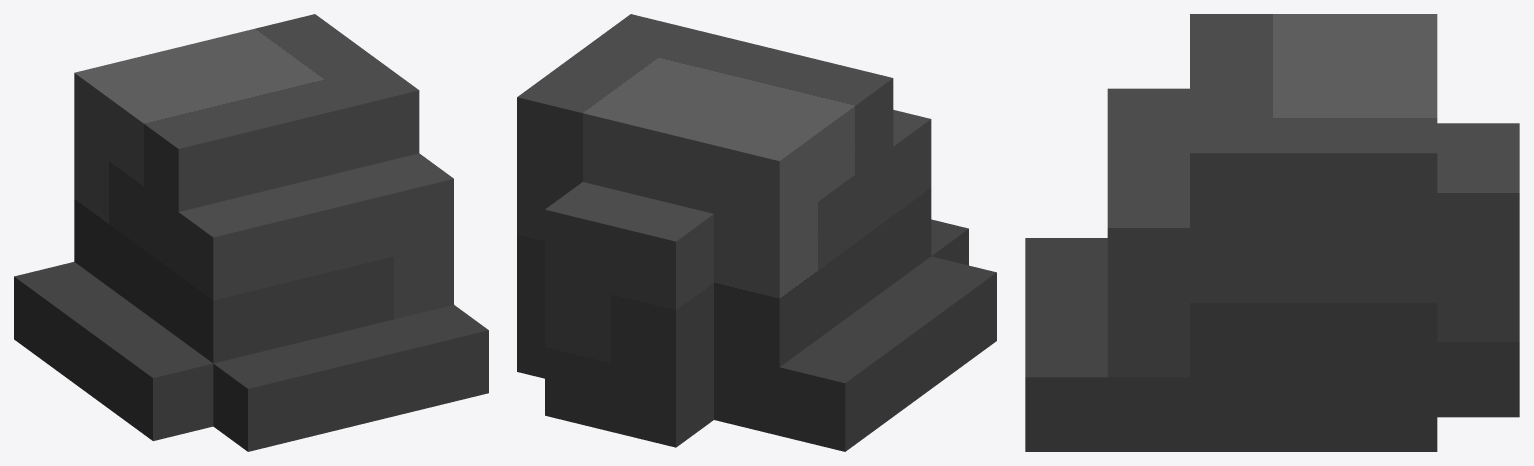
File: rock2.fbx
3 views of the same model, side by side, from view 1: azimuth 30°, elevation 25°; view 2: azimuth 150°, elevation 25°; view 3: azimuth 270°, elevation 25° (orthographic). The views are drawn at different scales.
Visible parts, largest first — view 1: rock2; view 2: rock2; view 3: rock2.
Boxes of the visible parts, x1=… form: rock2: x1=14, y1=14, x2=488, y2=451; rock2: x1=517, y1=14, x2=996, y2=451; rock2: x1=1025, y1=14, x2=1519, y2=451.
Bounding box in the file's own units: 5 × 4 × 6.
1 material, 1 textured.
